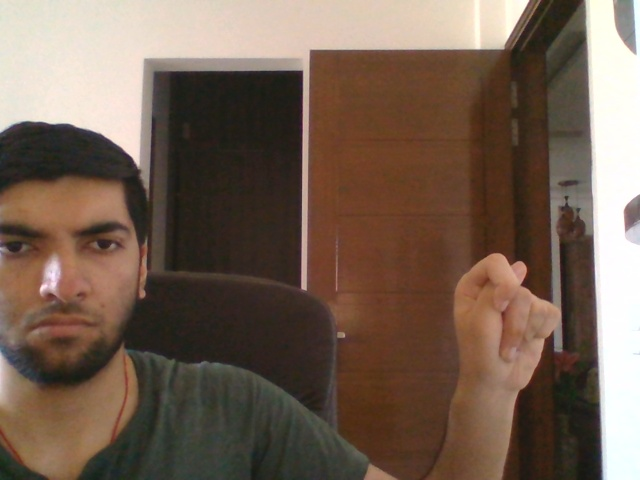LetterT: (449, 251, 564, 402)
